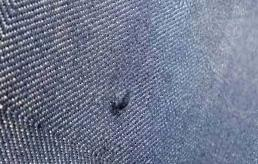knot: (108, 89, 134, 119)
